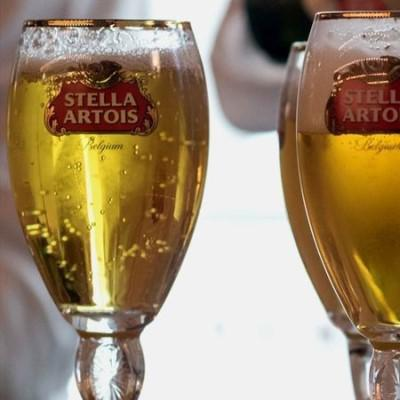beer: (11, 16, 212, 400)
